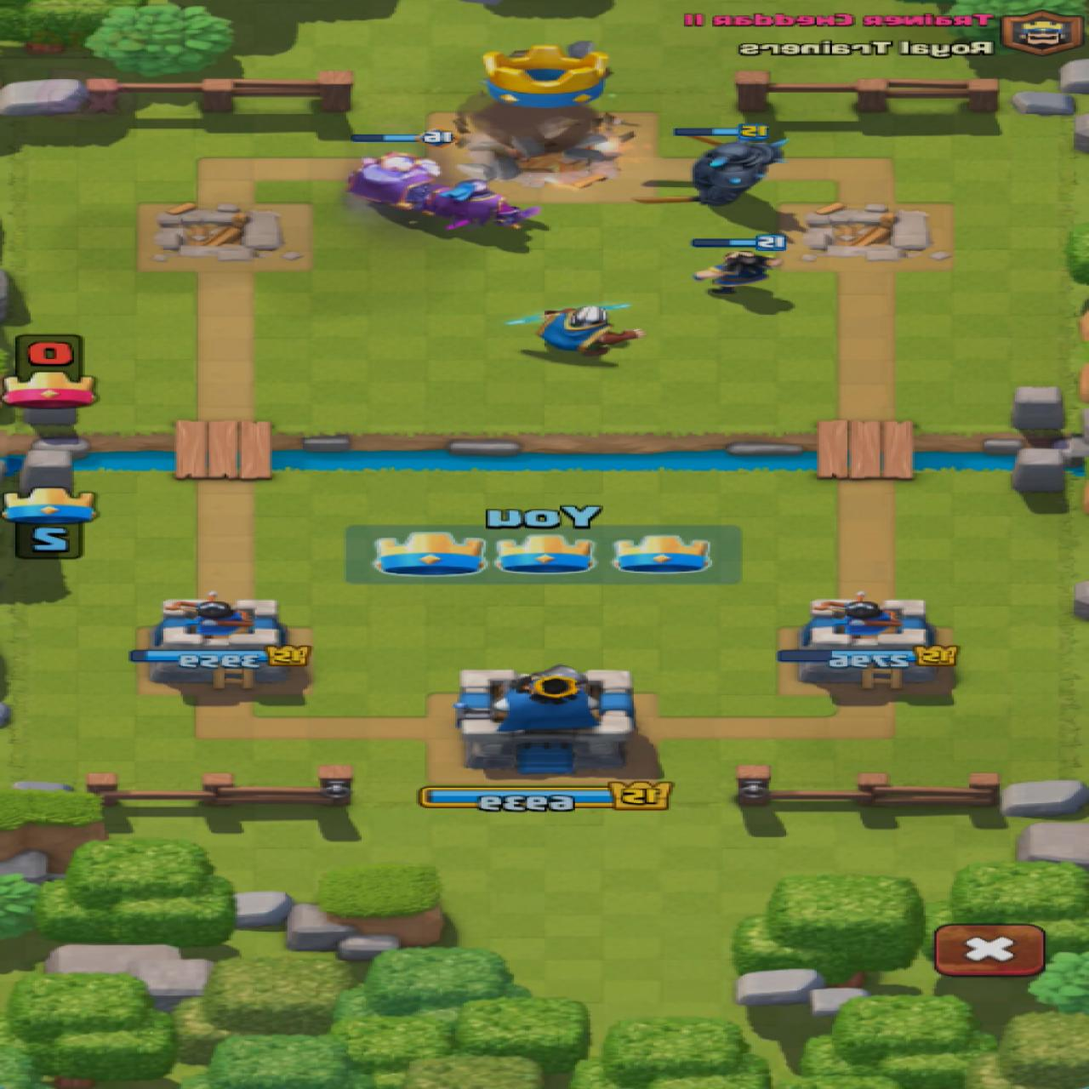Player-ThreeCrown: (339, 505, 743, 585)
